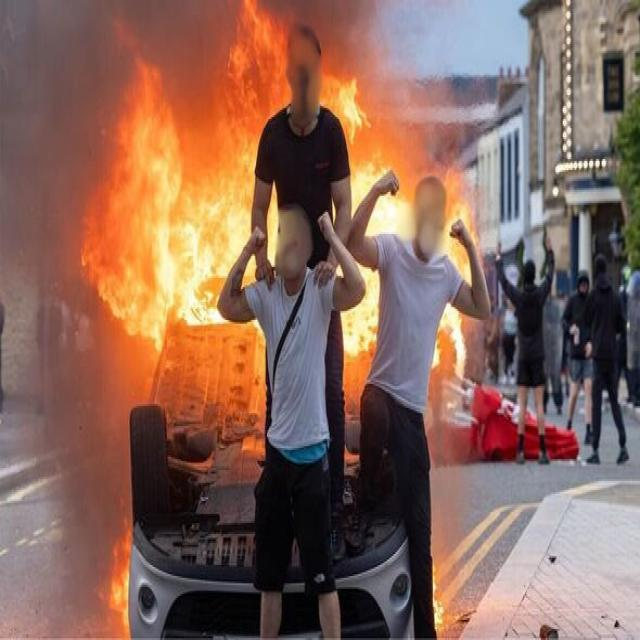fire: (81, 56, 191, 351), (191, 117, 259, 324), (207, 0, 286, 117), (341, 263, 380, 422), (320, 45, 371, 151), (92, 512, 131, 640), (439, 171, 474, 288), (429, 304, 465, 402), (351, 153, 389, 219), (106, 0, 151, 55), (364, 193, 413, 236)
